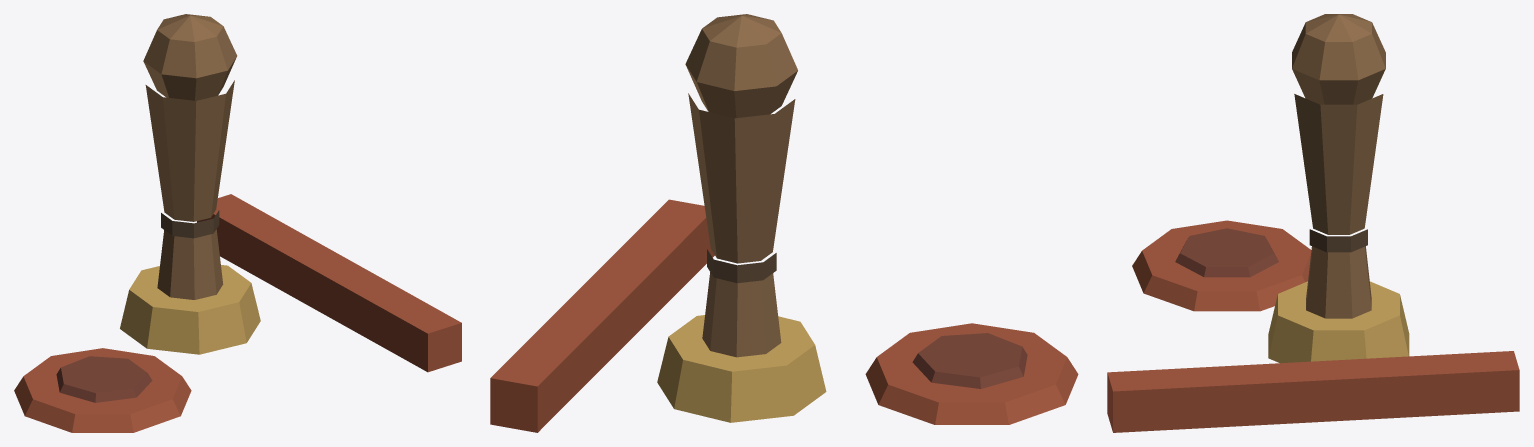
The model's file is desk-seal.glb.
3 views of the same model, side by side, from view 1: azimuth 30°, elevation 25°; view 2: azimuth 150°, elevation 25°; view 3: azimuth 270°, elevation 25° (orthographic). The views are drawn at different scales.
Parts seen in each view (by area): view 1: desk-seal; view 2: desk-seal; view 3: desk-seal.
Part boxes in pixels (bbox=[...]): desk-seal: bbox=[14, 14, 461, 432]; desk-seal: bbox=[490, 14, 1078, 432]; desk-seal: bbox=[1107, 14, 1519, 432].
Bounding box in the file's own units: 9.35 × 7.2 × 8.11.
1 material, 1 textured.
